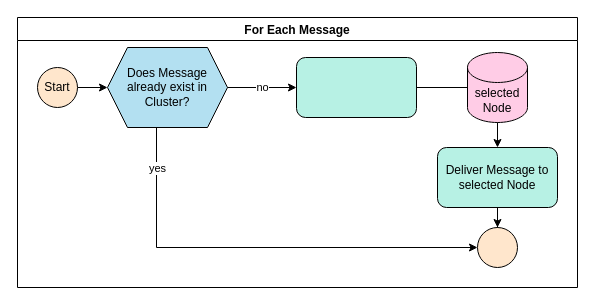
This 595x305 diagram has some shape labels left out. The centre of each missing label's shape, as x and y in pixels:
End: (x=497, y=247)
Query connected Node in Cluster with largest free buffersize: (x=356, y=87)
